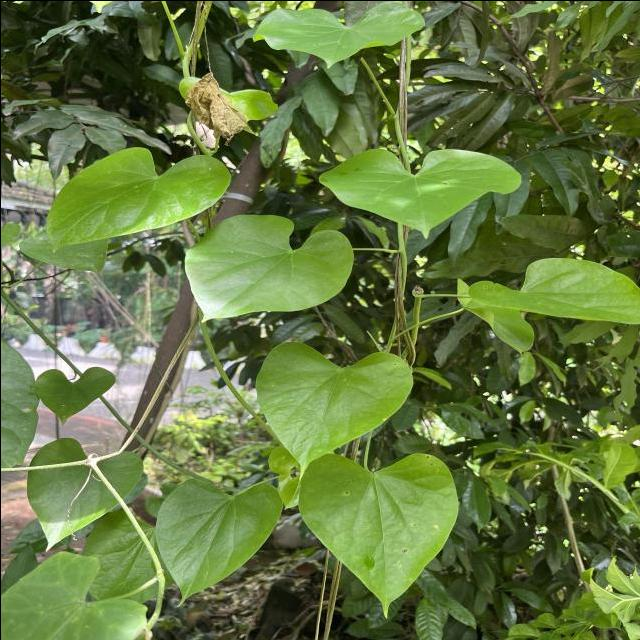Tinospora cordifolia: (293, 448, 460, 620), (250, 338, 419, 481), (42, 142, 234, 256), (182, 210, 356, 326), (316, 143, 522, 240), (151, 477, 284, 610), (246, 0, 432, 72)
